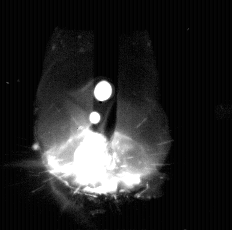arame: (94, 0, 118, 142)
poca: (40, 0, 170, 230)
